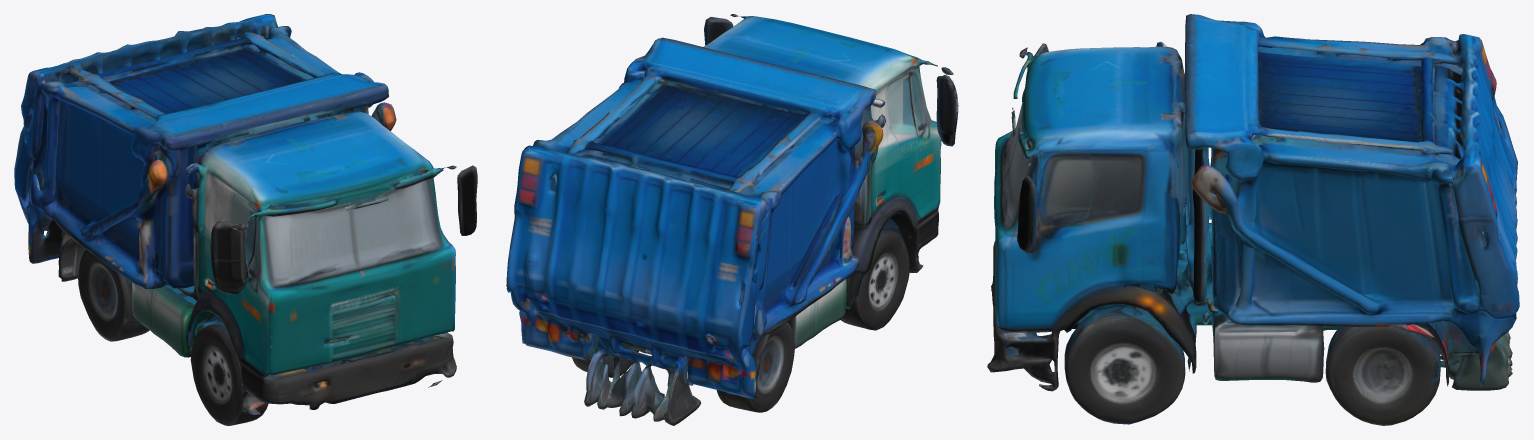
The model's file is 761ae74e-fcc8-442c-9f5d-80a7c5647671.glb.
The picture shows the model from 3 angles, left to right: view 1: azimuth 30°, elevation 25°; view 2: azimuth 150°, elevation 25°; view 3: azimuth 270°, elevation 25°; orthographic projection. The views are drawn at different scales.
Size of the model in its own units: 1.29 by 1.26 by 2.
Materials: 1 (1 with a texture image).
